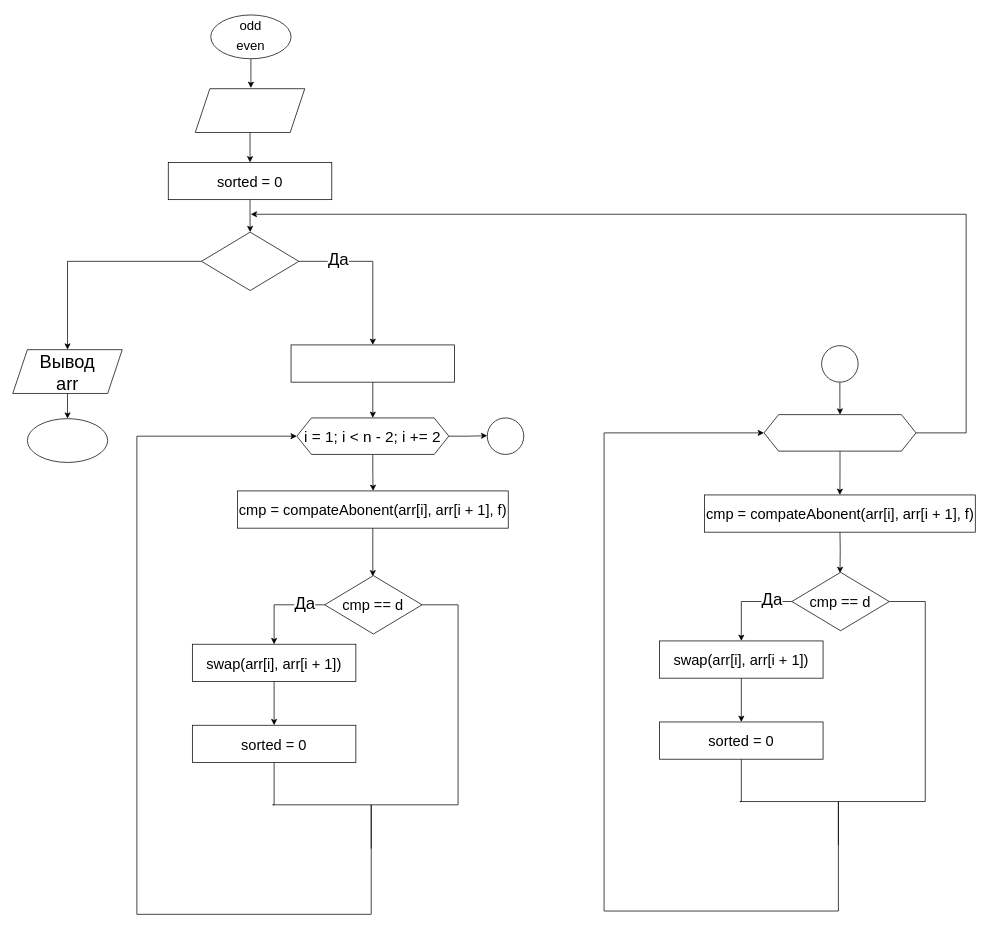
Some shapes in this 988 by 933 pixel diagram are drawn without their labels. The shapes that lost their labels are listed below. From the top down, each one's centre as x and y in pixels, then its label:
At point (250, 110): "Ввод arr, n, f, d".
At point (250, 261): "sorted == 0".
At point (372, 363): "sorted = 1".
At point (67, 440): "Конец".
At point (839, 432): "i = 0; i < n - 2; i += 2".
